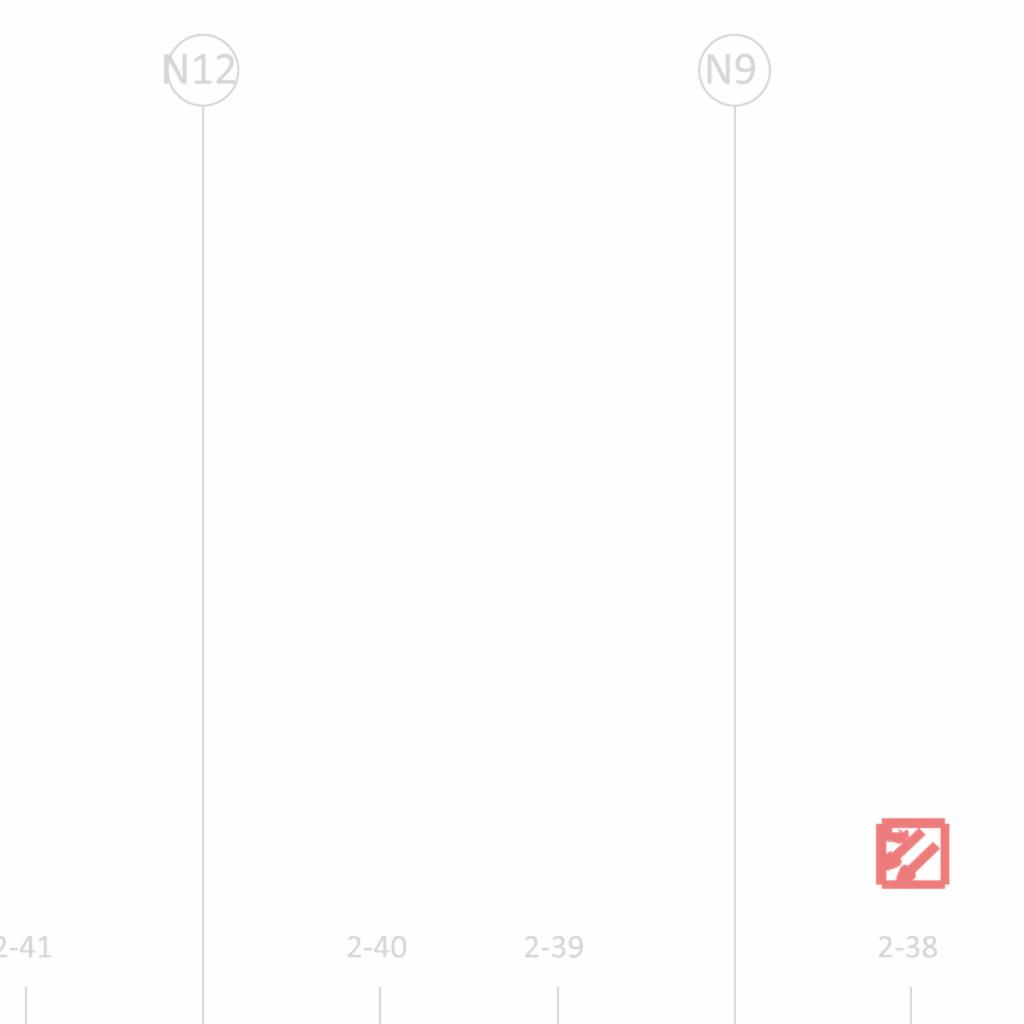OT_Multisensormelder_(Kombination_RMO_WMD): (854, 797, 967, 910)
